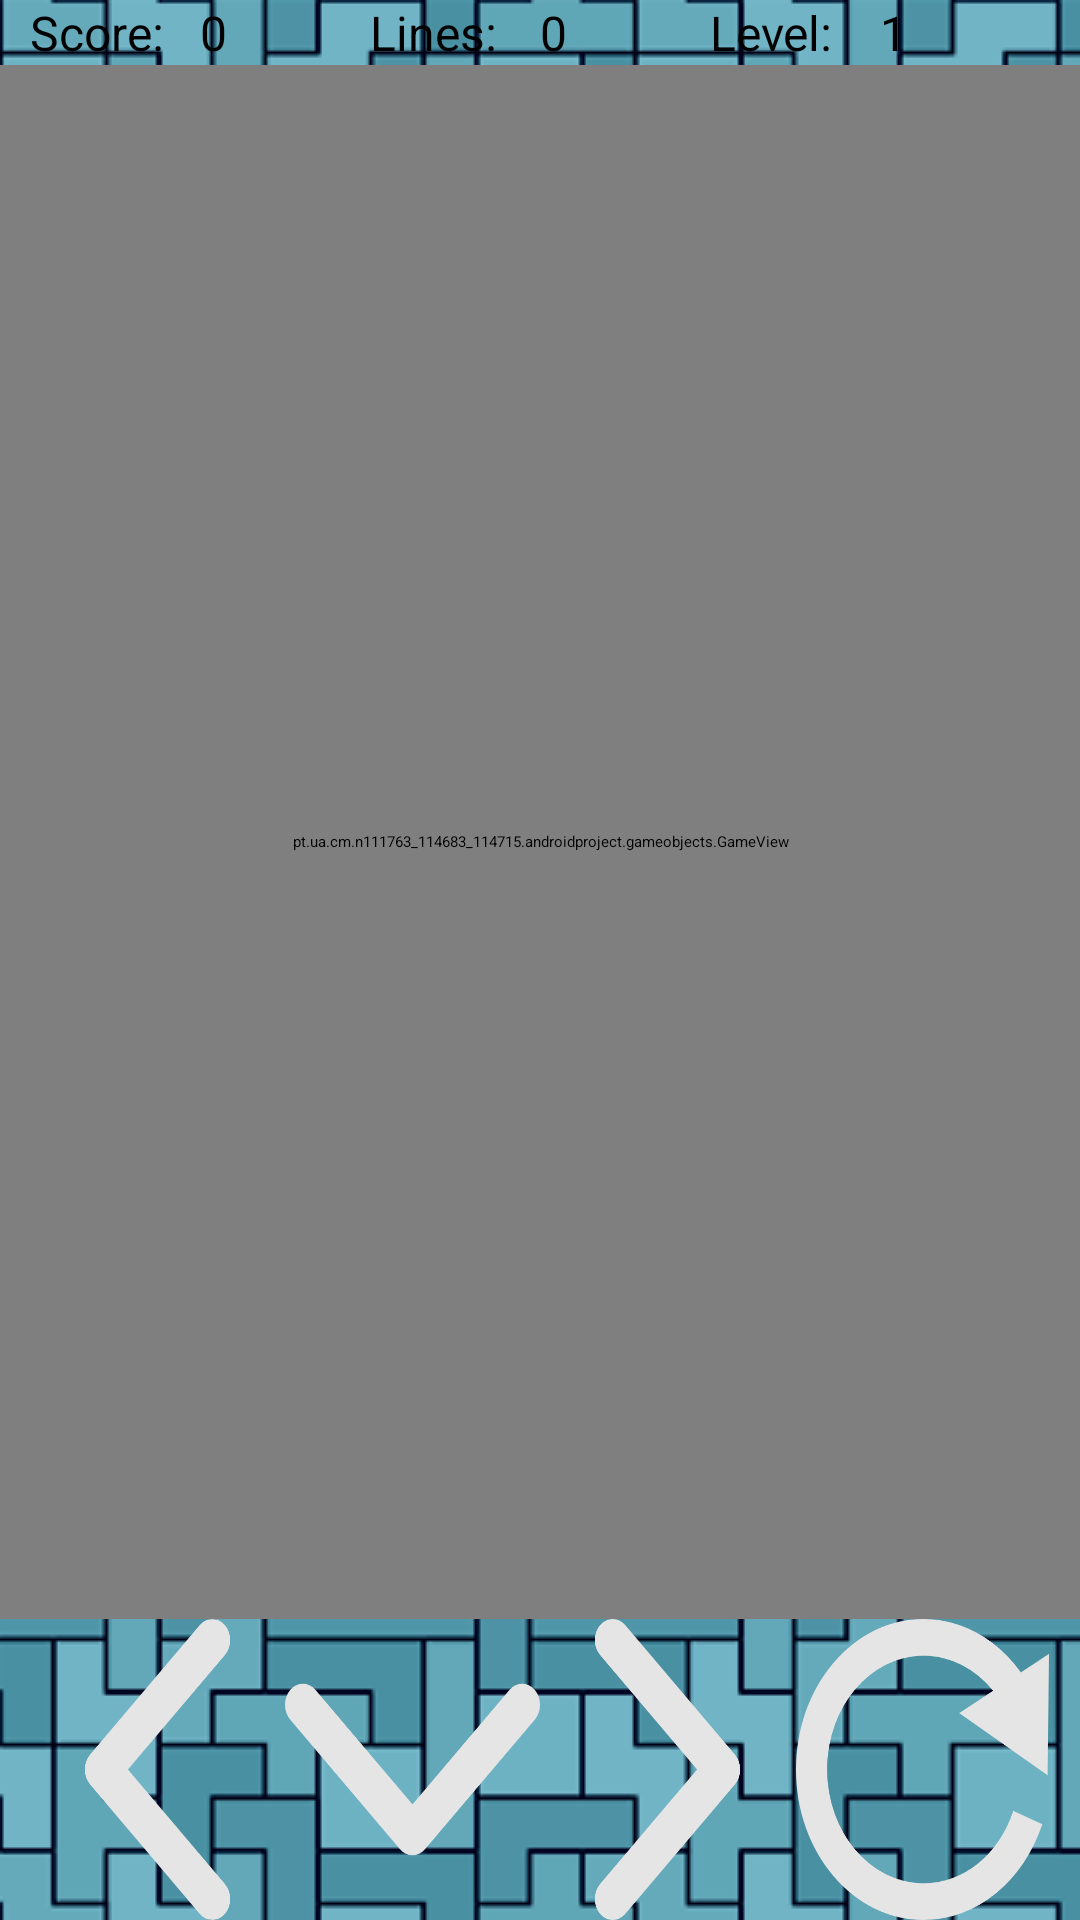

Icon click points for this 1080x1920 phone screenshot, format (x=x, y=y):
arrow down: (x=412, y=1769)
arrow left: (x=157, y=1769)
arrow right: (x=667, y=1769)
arrow rotate: (x=922, y=1769)
